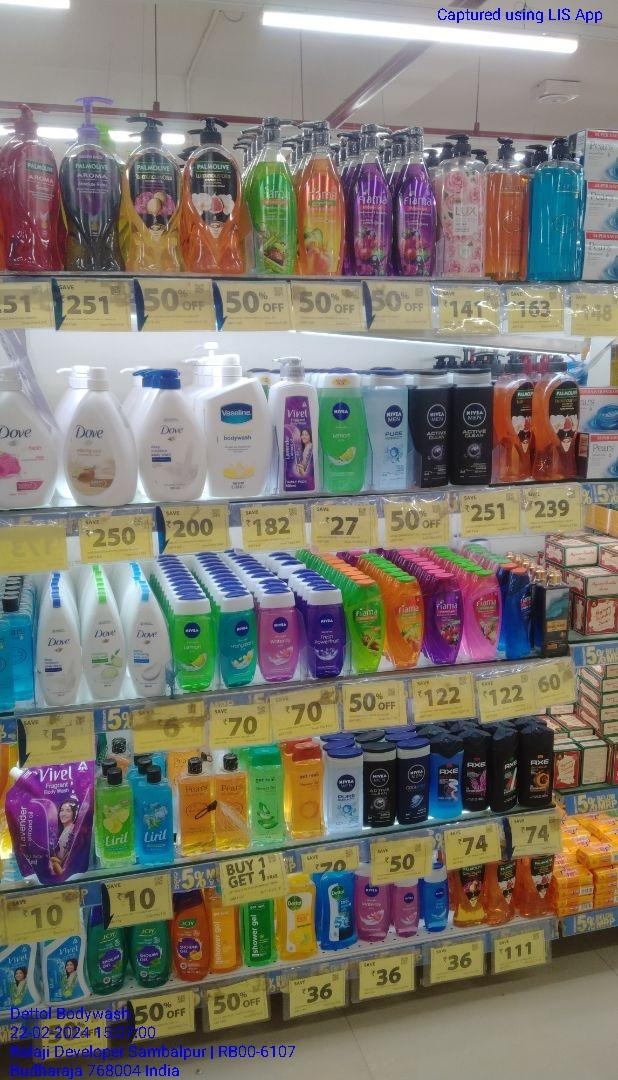Dettol_Bodywash_Cool: (321, 871, 356, 948)
Dettol_Bodywash_Refresh: (279, 872, 317, 958)
Dove_Deep_Moisture_Body_Wash_250ML: (36, 597, 80, 706)
Dove_Gentle_Exfoliating_Body_Wash_250ML: (128, 591, 170, 699)
Dove_Refreshing_Body_Wash_250ML: (84, 595, 124, 698)
Fiama_Shower_Gel_Lemongrass_and_Jojoba_250ML: (349, 580, 385, 673)
Fiama_Shower_Gel_Patchouli_and_Macadamia_250ML: (464, 569, 501, 662)
Fiama_Shower_Gel_Peach_and_Avocado_250ML: (387, 578, 424, 666)
Get_Real_Shower_Gel_Moisturising_Glycerin_300ML: (291, 741, 322, 838)
Joy_Shower_Gel_Mandarin_and_Lemongrass_250ML: (173, 892, 210, 980)
Joy_Shower_Gel_Mint_and_Eucalyptus_250ML: (87, 906, 128, 995), (133, 921, 171, 987)
Liril_Cooling_Mint_Body_Wash_250ML: (135, 768, 175, 865)
Liril_Lime_and_Tea_Tree_Oil_Body_Wash_250ML: (97, 768, 133, 859)
Nivea_Shower_Gel_Frangipani_and_Oil_250ML: (220, 590, 257, 689)
Nivea_Shower_Gel_Fresh_Powerfruit_250ML: (302, 583, 345, 677)
Nivea_Shower_Gel_Lemon_and_Oil_250ML: (321, 365, 365, 493), (172, 598, 213, 689)
Nivea_Shower_Gel_Waterlily_and_Oil_250ML: (258, 588, 300, 683), (358, 866, 388, 939)
Palmolive_Luminous_Oils_Invigorating_Macadamia_Oil_With_Peony_250ML: (457, 867, 485, 929)
Palmolive_Luminous_Oils_With_White_Orchid_Shower_Gel_250ML: (520, 854, 554, 918), (490, 860, 518, 925)
Pears_Pure_Glycerin_and_Mint_Extracts_Body_Wash_250ML: (0, 592, 32, 708)
